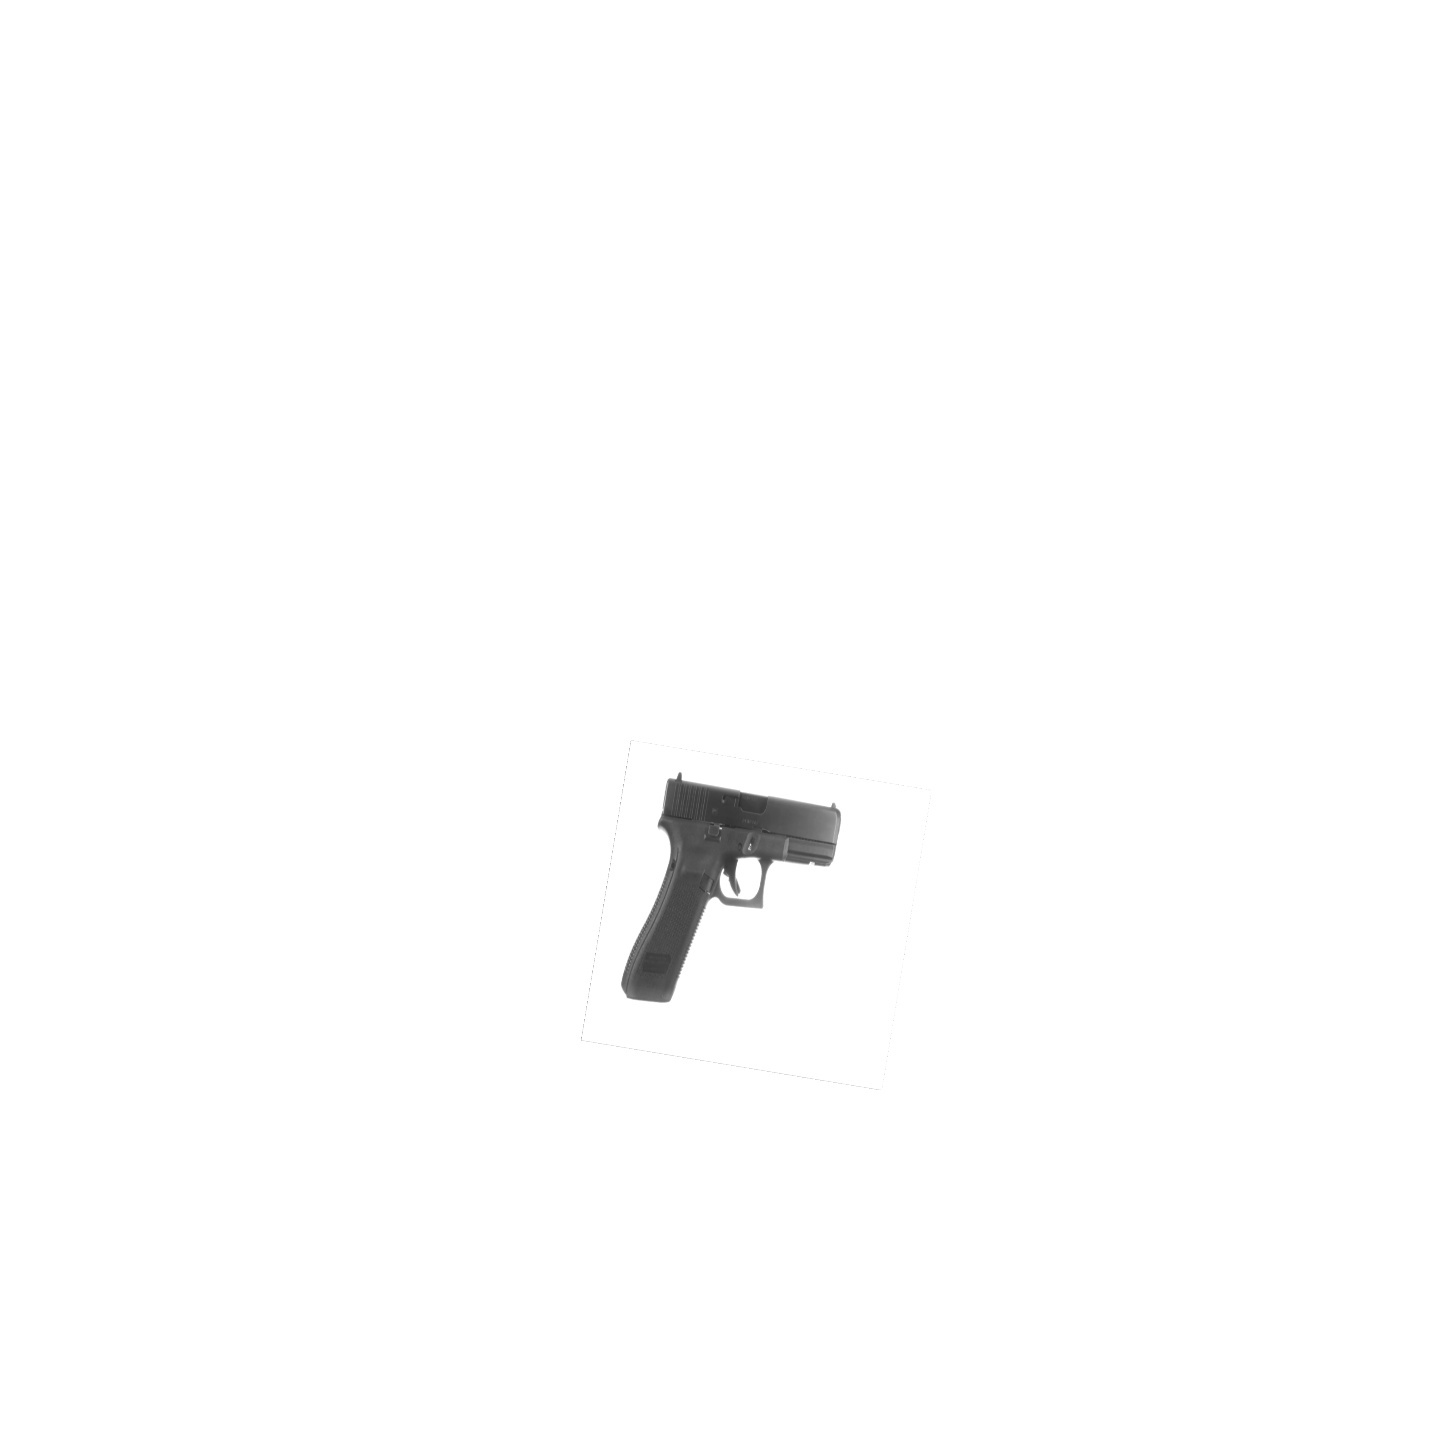gun: (618, 773, 859, 1014)
